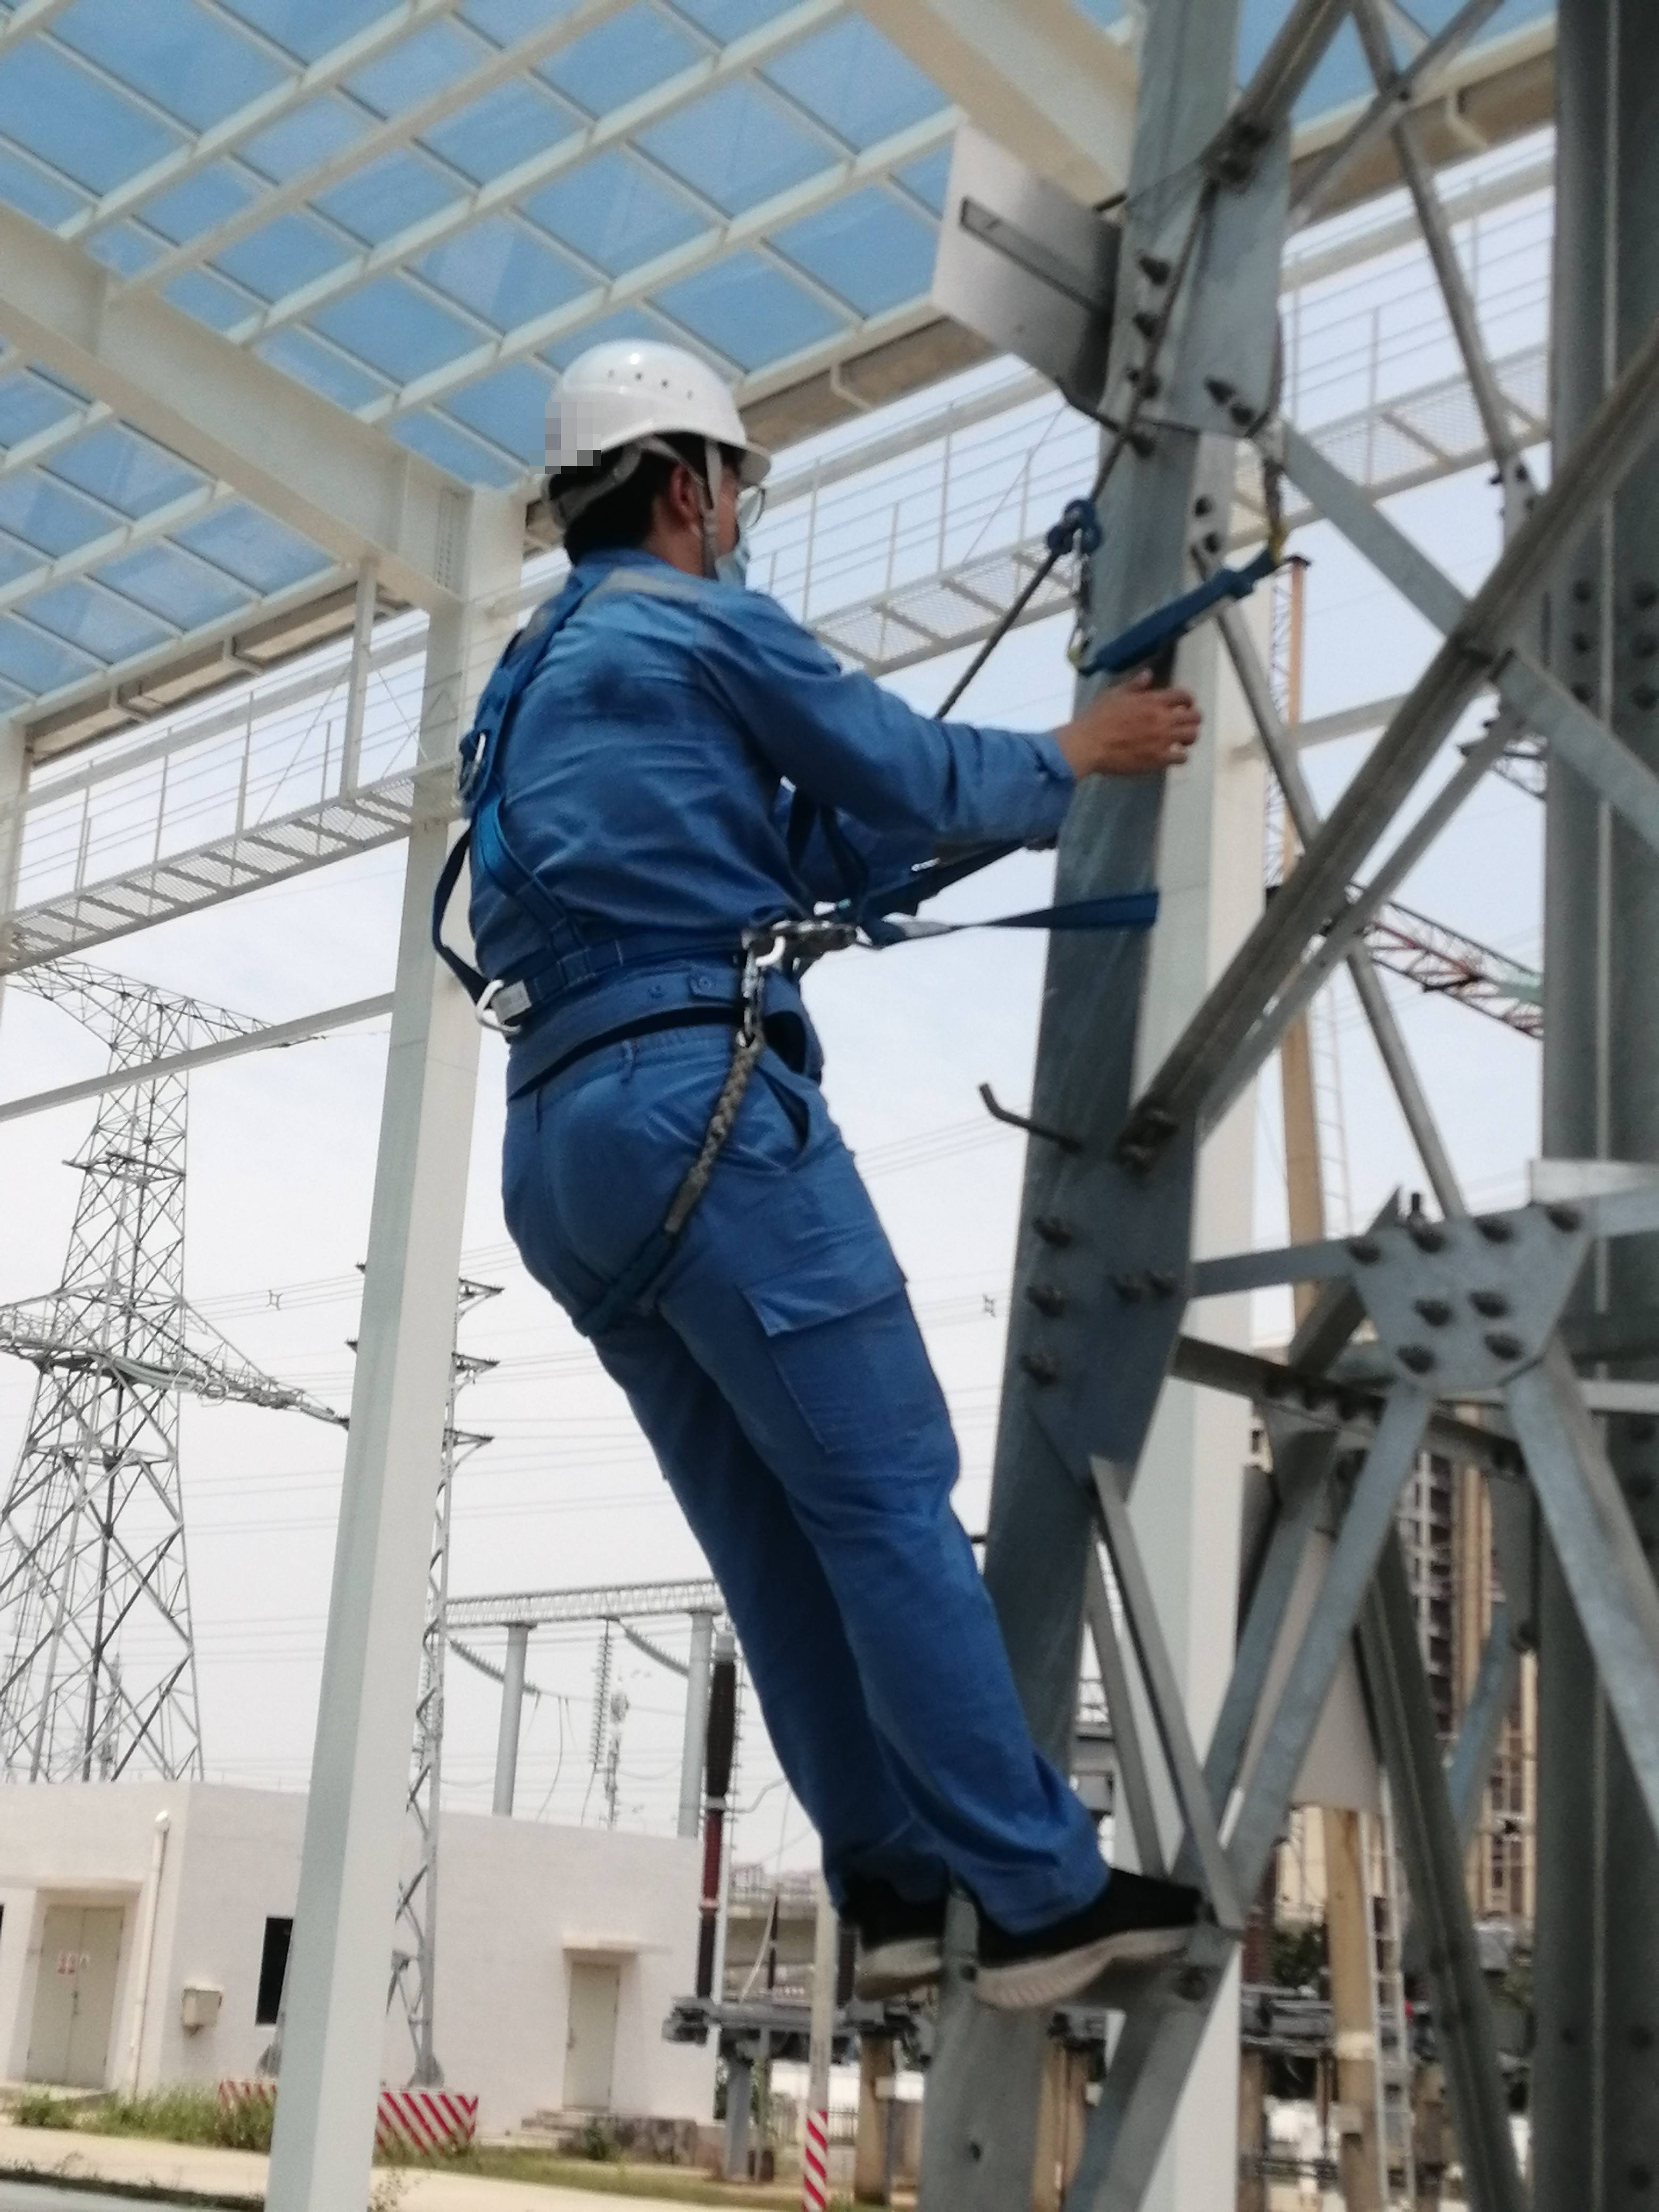downsuit: (505, 1057, 1079, 1914)
upsuit: (458, 571, 1056, 1035)
